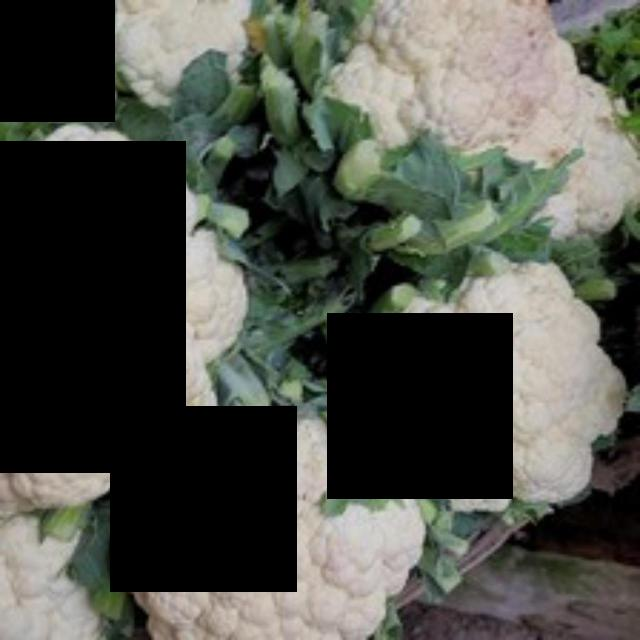cauliflower: (291, 0, 637, 274)
